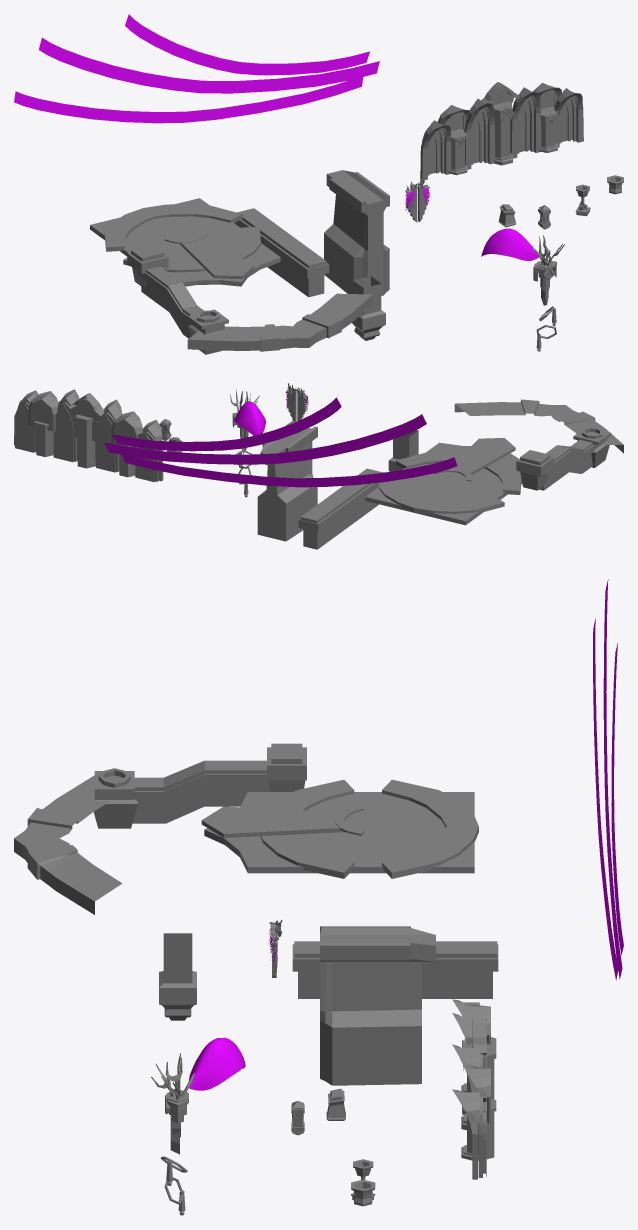
Rendered from MedRESV2.fbx.
The picture shows the model from 3 angles, top to bottom: view 1: azimuth 30°, elevation 25°; view 2: azimuth 150°, elevation 25°; view 3: azimuth 270°, elevation 25°; orthographic projection. The views are drawn at different scales.
Parts seen in each view (by area): view 1: polySurface255, pCube163, pCube136, pPlane63, pPlane2 (×4), pCube127, pPlane4 (×4), pCube184, pCube134, pCube179, pCube186, pCube135 (+9 smaller); view 2: polySurface255, pCube163, pCube136, pCube127, pPlane4 (×4), pPlane63, pCube184, pCube134, pCube135, pCube179, pCube162, pPlane15 (+10 smaller); view 3: pCube163, pCube136, pPlane63, pCube134, pCube127, pCube184, polySurface255, pCube179, pCube135, pCube186, pCube147, pPlane82 (+2 smaller).
Part boxes in pixels (x1=…): polySurface255: x1=14, y1=14, x2=379, y2=123; pCube163: x1=324, y1=170, x2=389, y2=295; pCube136: x1=90, y1=198, x2=280, y2=286; pPlane63: x1=187, y1=293, x2=372, y2=351; pPlane2 (×4): x1=420, y1=87, x2=583, y2=180; pCube127: x1=234, y1=208, x2=329, y2=297; pPlane4 (×4): x1=428, y1=90, x2=572, y2=175; pCube184: x1=104, y1=204, x2=242, y2=251; pCube134: x1=137, y1=266, x2=203, y2=338; pCube179: x1=180, y1=237, x2=254, y2=278; pCube186: x1=352, y1=276, x2=385, y2=340; pCube135: x1=123, y1=226, x2=260, y2=272; polySurface255: x1=104, y1=397, x2=457, y2=487; pCube163: x1=257, y1=421, x2=317, y2=541; pCube136: x1=365, y1=442, x2=522, y2=525; pCube127: x1=298, y1=468, x2=380, y2=549; pPlane4 (×4): x1=15, y1=404, x2=154, y2=482; pPlane63: x1=454, y1=399, x2=623, y2=453; pCube184: x1=379, y1=472, x2=504, y2=514; pCube134: x1=539, y1=439, x2=594, y2=490; pCube135: x1=395, y1=451, x2=521, y2=494; pCube179: x1=453, y1=438, x2=515, y2=474; pCube162: x1=516, y1=450, x2=553, y2=490; pPlane15: x1=28, y1=391, x2=58, y2=431; pCube163: x1=320, y1=926, x2=435, y2=1085; pCube136: x1=204, y1=792, x2=474, y2=873; pPlane63: x1=14, y1=775, x2=122, y2=914; pCube134: x1=132, y1=760, x2=270, y2=823; pCube127: x1=292, y1=941, x2=498, y2=998; pCube184: x1=382, y1=779, x2=478, y2=878; polySurface255: x1=593, y1=579, x2=623, y2=980; pCube179: x1=201, y1=806, x2=344, y2=837; pCube135: x1=260, y1=779, x2=354, y2=878; pCube186: x1=159, y1=933, x2=196, y2=1020; pCube147: x1=93, y1=768, x2=137, y2=828; pPlane82: x1=188, y1=1037, x2=245, y2=1090.
Bounding box in the file's own units: 1014 × 522 × 719.
